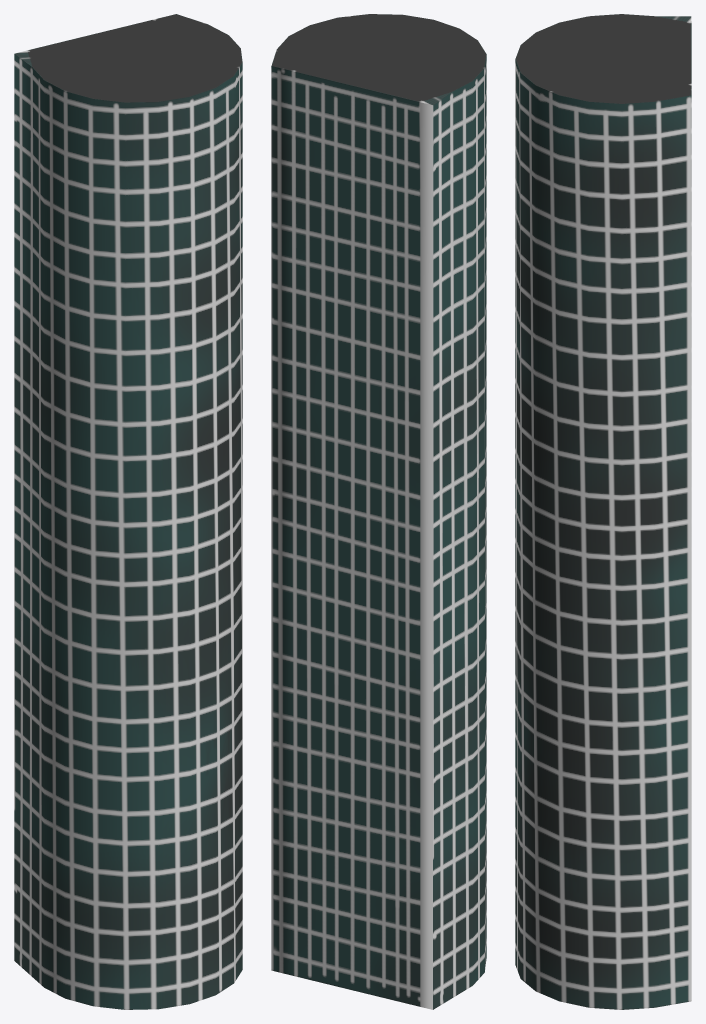
File: centraltower.fbx
3 renders of one model, left to right at view 1: azimuth 30°, elevation 25°; view 2: azimuth 150°, elevation 25°; view 3: azimuth 270°, elevation 25°, orthographic.
Parts seen in each view (by area): view 1: polySurface3; view 2: polySurface3; view 3: polySurface3.
Boxes of the visible parts, box(x1,y1,x2,y2) form: polySurface3: box(14, 14, 242, 1009); polySurface3: box(271, 14, 486, 1009); polySurface3: box(515, 14, 691, 1009).
Bounding box in the file's own units: 11.25 × 52.8 × 9.31.
Materials: 2 (1 with a texture image).
